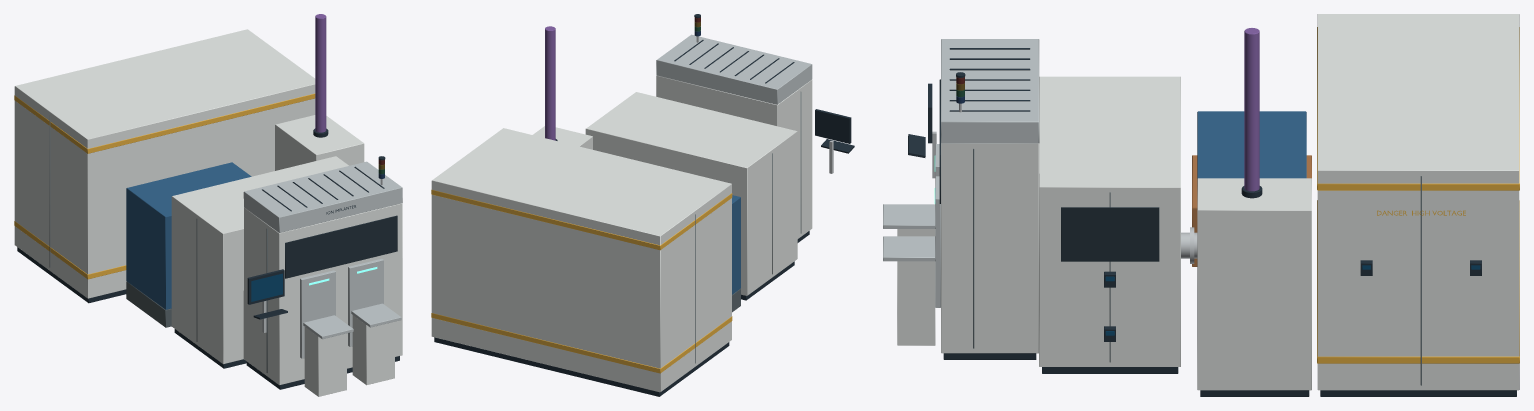
The model's file is fab1-tool-implanter.glb.
The picture shows the model from 3 angles, left to right: view 1: azimuth 30°, elevation 25°; view 2: azimuth 150°, elevation 25°; view 3: azimuth 270°, elevation 25°; orthographic projection. The views are drawn at different scales.
Visible parts, largest first — view 1: TOOL_IMP_TerminalEnclosure, TOOL_IMP_EFEM, TOOL_IMP_EndStation, TOOL_IMP_LoadPorts, TOOL_IMP_Magnet, TOOL_IMP_GasBox, TOOL_IMP_Operator, TOOL_HMI_Screen; view 2: TOOL_IMP_TerminalEnclosure, TOOL_IMP_EndStation, TOOL_IMP_EFEM, TOOL_IMP_GasBox, TOOL_IMP_Operator, TOOL_IMP_Magnet; view 3: TOOL_IMP_TerminalEnclosure, TOOL_IMP_EndStation, TOOL_IMP_EFEM, TOOL_IMP_GasBox, TOOL_IMP_Magnet, TOOL_IMP_LoadPorts, TOOL_IMP_Operator.
Part boxes in pixels (x1,y1,x2,y2): TOOL_IMP_TerminalEnclosure: (14, 29, 315, 303); TOOL_IMP_EFEM: (243, 161, 402, 389); TOOL_IMP_EndStation: (171, 156, 348, 368); TOOL_IMP_LoadPorts: (300, 258, 401, 396); TOOL_IMP_Magnet: (126, 162, 251, 327); TOOL_IMP_GasBox: (275, 14, 364, 170); TOOL_IMP_Operator: (247, 269, 287, 332); TOOL_HMI_Screen: (251, 273, 282, 301); TOOL_IMP_TerminalEnclosure: (431, 128, 732, 396); TOOL_IMP_EndStation: (585, 92, 797, 300); TOOL_IMP_EFEM: (656, 34, 812, 242); TOOL_IMP_GasBox: (533, 26, 592, 149); TOOL_IMP_Operator: (815, 109, 854, 173); TOOL_IMP_Magnet: (732, 195, 740, 312); TOOL_IMP_TerminalEnclosure: (1317, 14, 1519, 396); TOOL_IMP_EndStation: (1039, 76, 1180, 373); TOOL_IMP_EFEM: (939, 39, 1039, 359); TOOL_IMP_GasBox: (1197, 28, 1311, 396); TOOL_IMP_Magnet: (1192, 111, 1311, 266); TOOL_IMP_LoadPorts: (883, 144, 940, 345); TOOL_IMP_Operator: (908, 83, 936, 178).
Bounding box in the file's own units: 3.52 × 3.55 × 5.83.
Materials: 3 (1 with a texture image).
